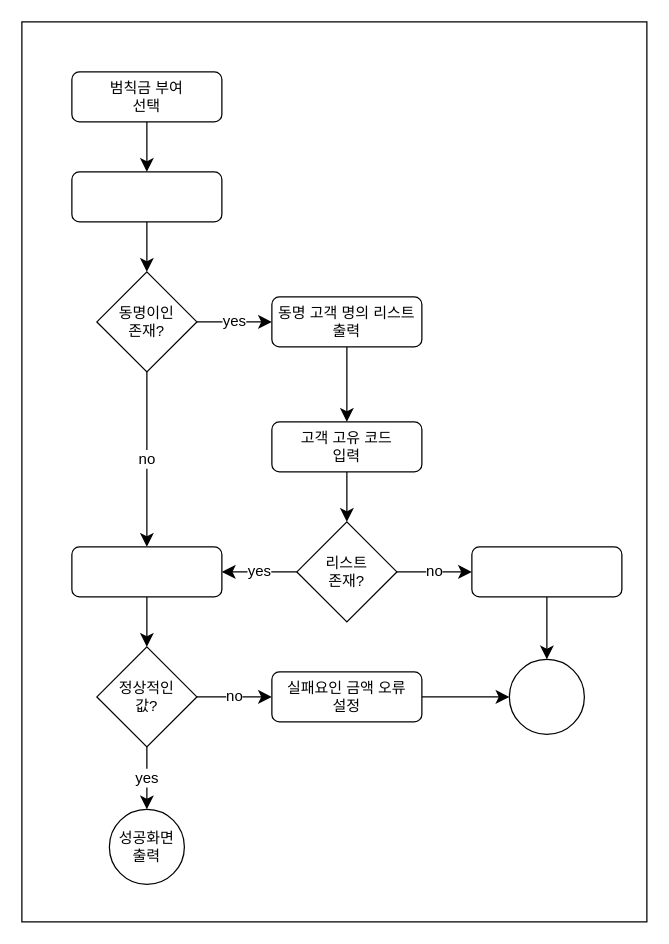
This 669x944 diagram has some shape labels left out. Each missing label, with the box of its shape:
고객 명의 입력: (71, 171, 222, 222)
부여금 금액 입력: (71, 546, 222, 597)
실패요인 출력: (508, 658, 584, 734)
실패요인 코드 오류 설정: (471, 546, 622, 597)
